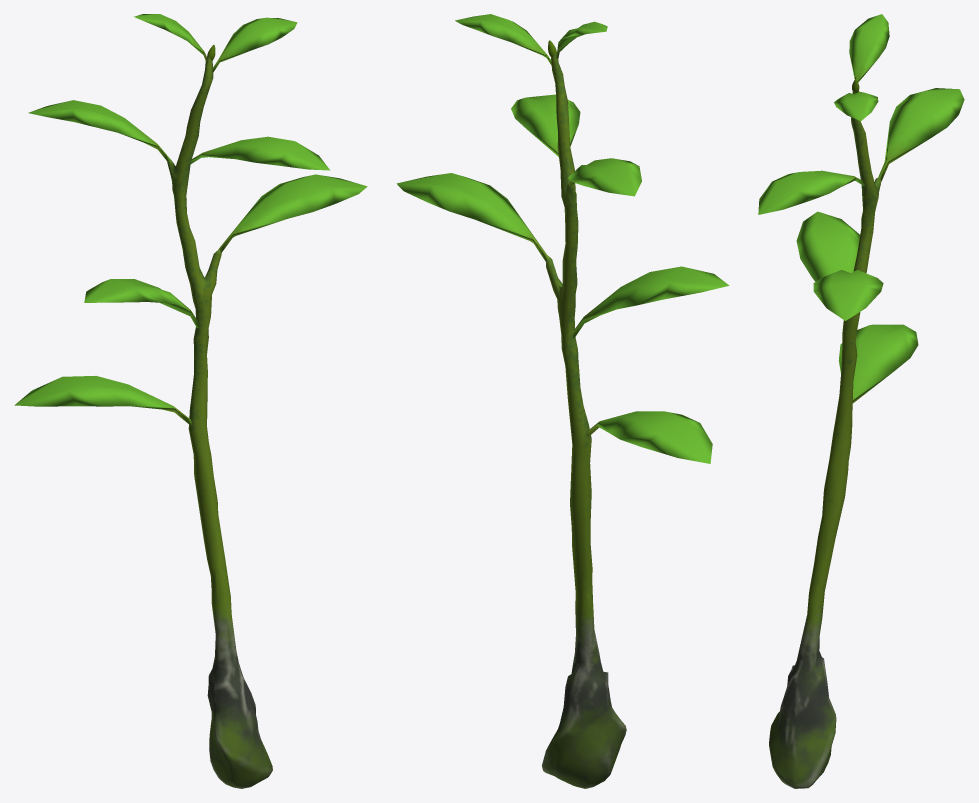
The model's file is wakaeda 1.fbx.
3 renders of one model, left to right at view 1: azimuth 30°, elevation 25°; view 2: azimuth 150°, elevation 25°; view 3: azimuth 270°, elevation 25°, orthographic. The views are drawn at different scales.
Visible parts, largest first — view 1: wakaeda; view 2: wakaeda; view 3: wakaeda.
Part boxes in pixels (box(x1,y1,x2,y2)): wakaeda: box(14, 14, 367, 788); wakaeda: box(396, 14, 729, 788); wakaeda: box(758, 14, 964, 788).
Size of the model in its own units: 53.77 by 119 by 30.28.
